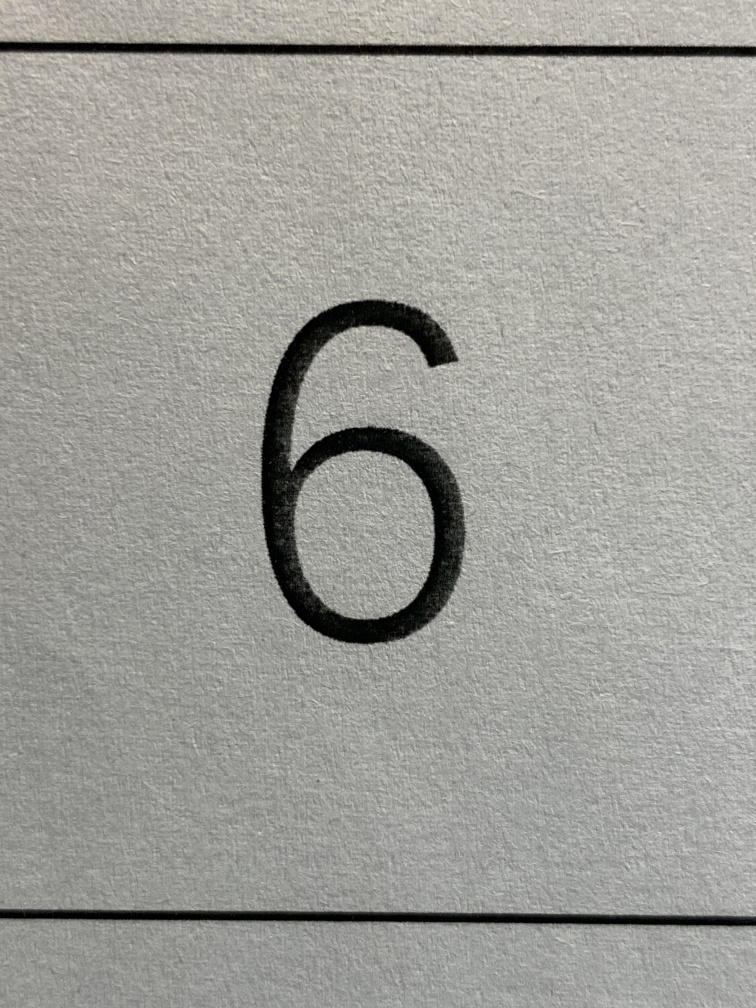six: (171, 210, 556, 718)
